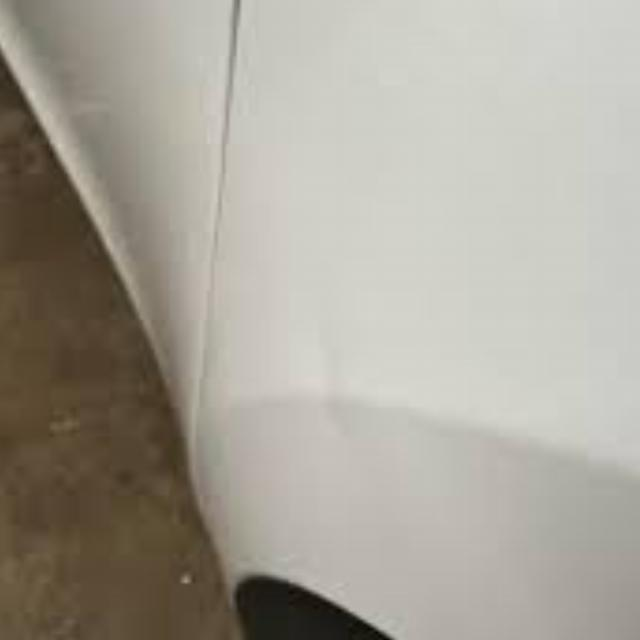dents: (302, 289, 368, 466)
